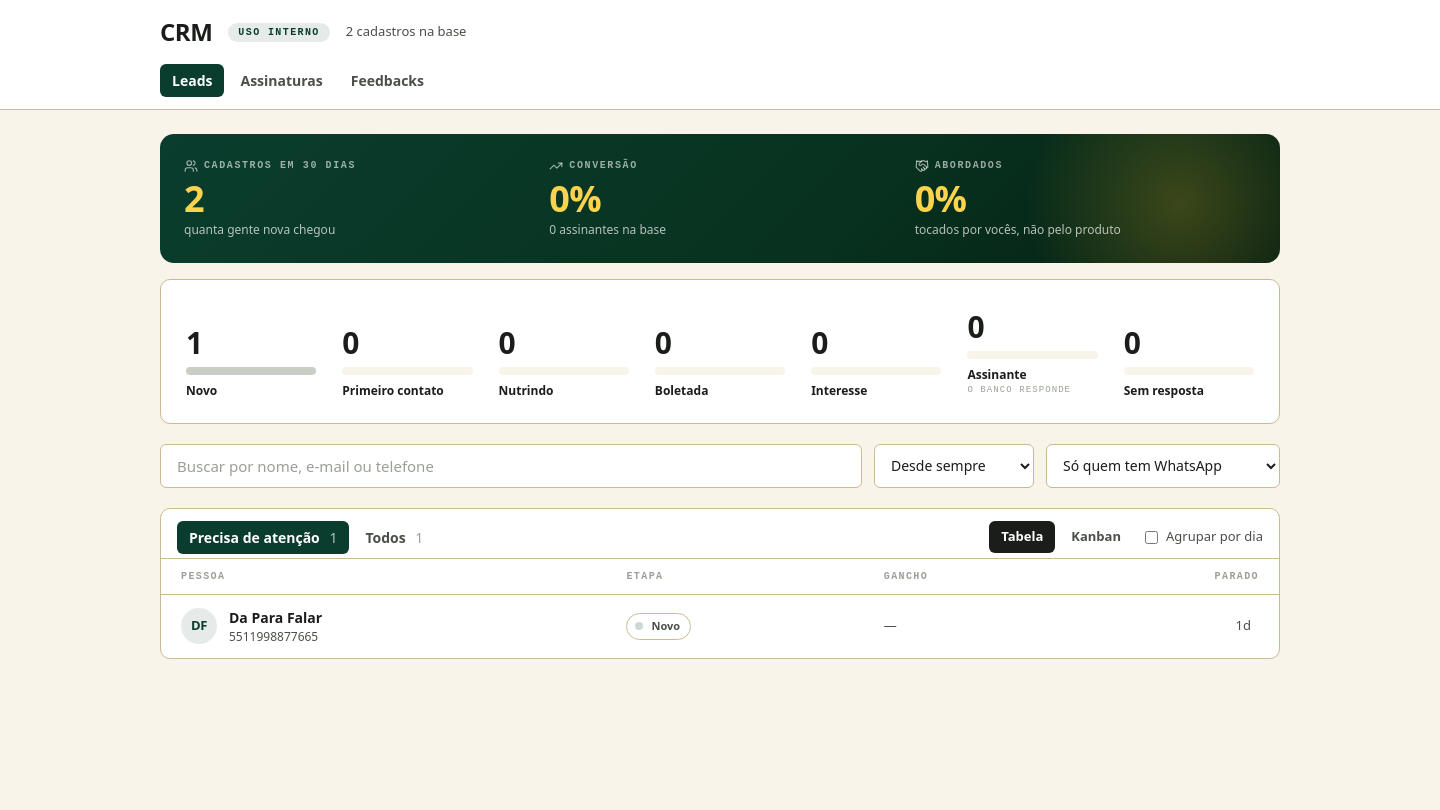
PainelCrm · o filtro de WhatsApp › "com e sem" traz todo mundo de volta
Select "Com e sem WhatsApp" in the dropdown named "filtrar por whatsapp" at (1163, 466), box [1046,444,1280,488]
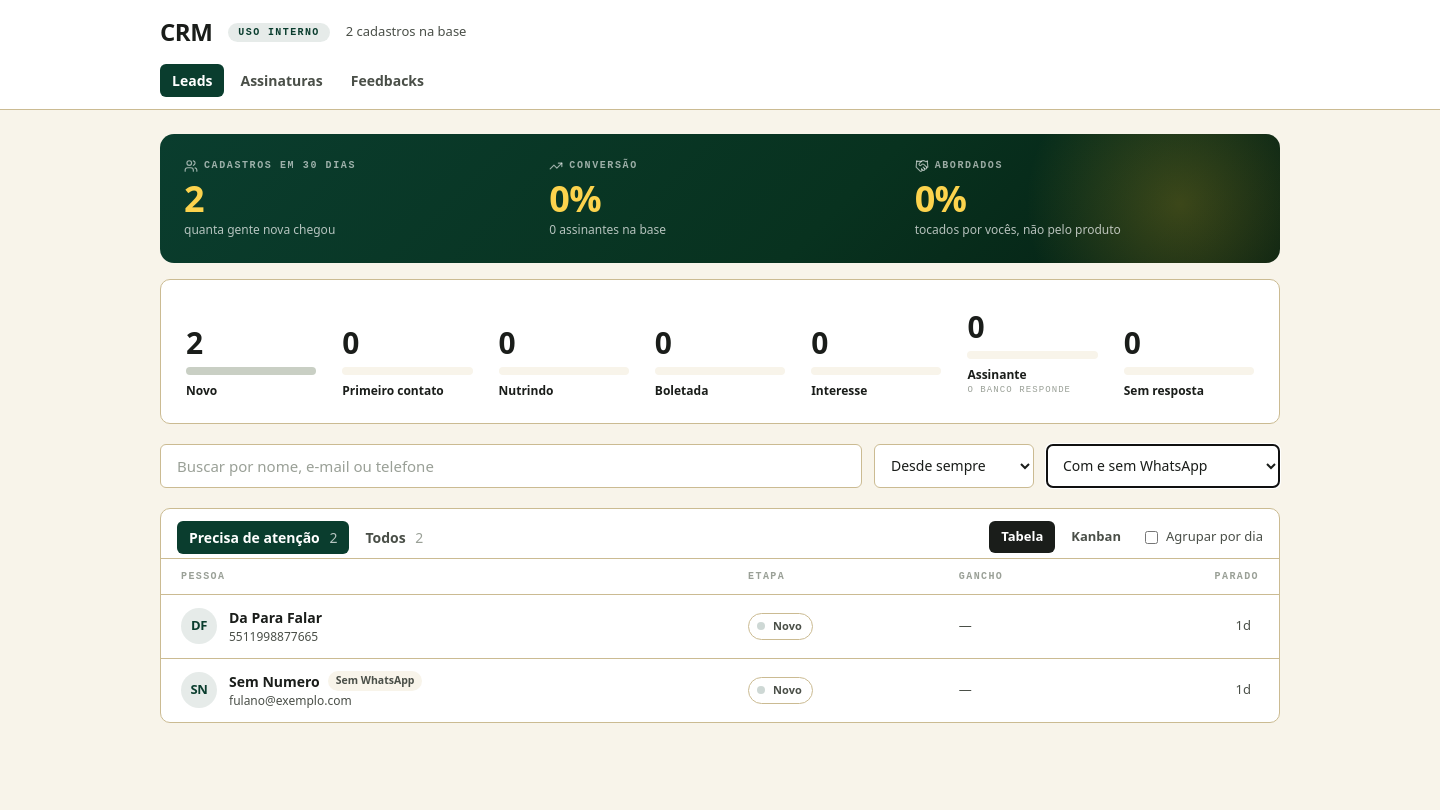
Expected: the link "Da Para Falar" is shown, [229,606,322,628]
Expected: the link "Sem Numero" is shown, [229,670,320,692]
